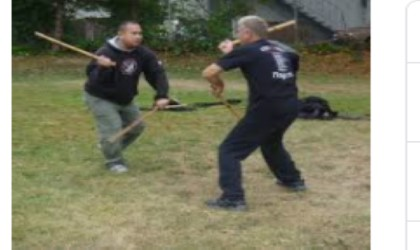baston_e: (39, 30, 105, 66), (113, 104, 153, 144), (235, 19, 292, 45), (216, 99, 243, 119)
baston_v: (31, 25, 41, 39), (106, 135, 115, 146), (111, 57, 118, 67), (289, 16, 295, 27), (209, 83, 217, 90)
